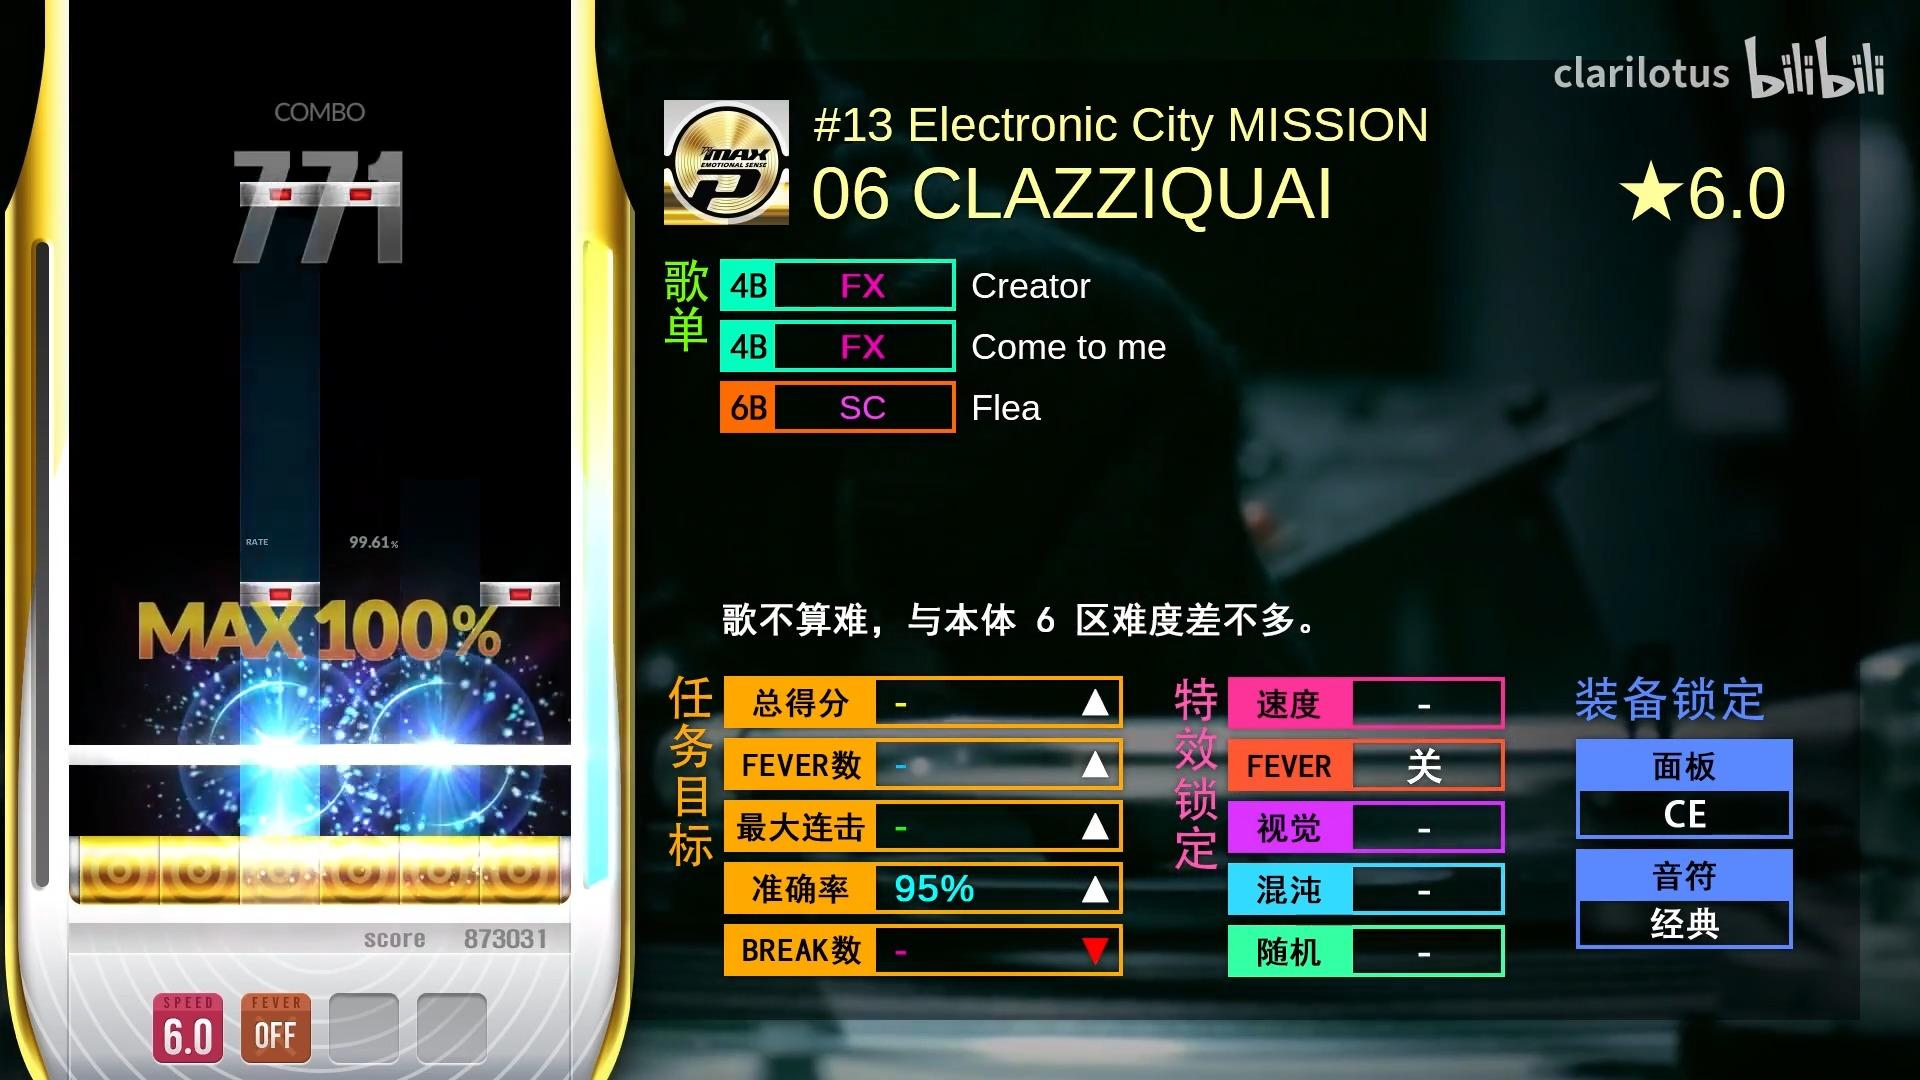note: (239, 580, 320, 607), (479, 580, 560, 607), (320, 181, 400, 207), (240, 181, 322, 206)
